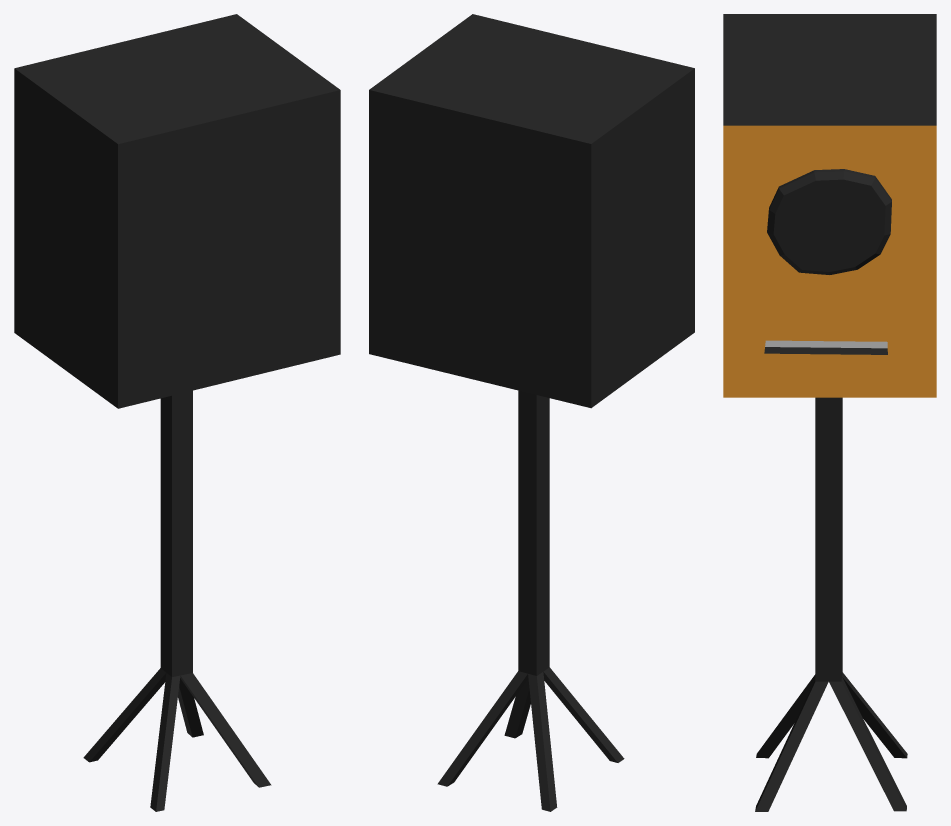
The model's file is speaker.fbx.
The picture shows the model from 3 angles, left to right: view 1: azimuth 30°, elevation 25°; view 2: azimuth 150°, elevation 25°; view 3: azimuth 270°, elevation 25°; orthographic projection. The views are drawn at different scales.
Visible parts, largest first — view 1: Cube; view 2: Cube; view 3: Cube.
Part boxes in pixels (bbox=[...]): Cube: bbox=[14, 14, 340, 811]; Cube: bbox=[369, 14, 694, 811]; Cube: bbox=[723, 14, 936, 811].
Size of the model in its own units: 100 by 286 by 77.63.
